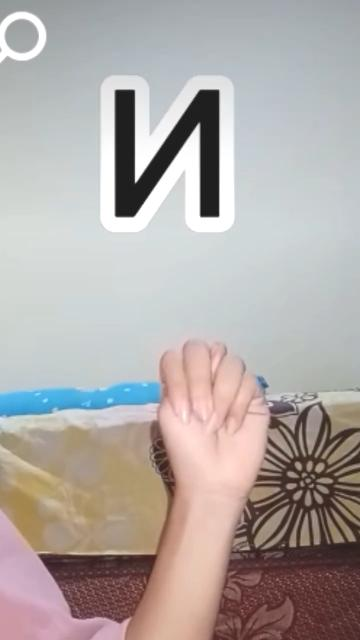N: (152, 330, 274, 498)
